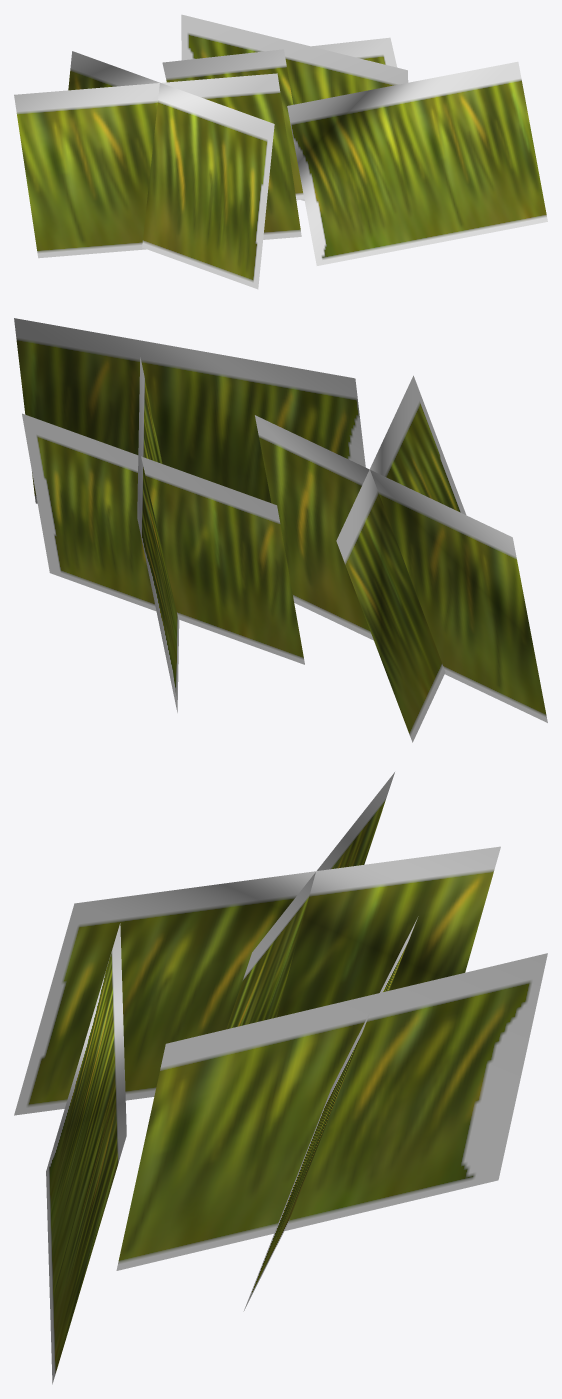
The model's file is xzl_cao1.fbx.
3 renders of one model, top to bottom at view 1: azimuth 30°, elevation 25°; view 2: azimuth 150°, elevation 25°; view 3: azimuth 270°, elevation 25°, orthographic. The views are drawn at different scales.
Visible parts, largest first — view 1: xzl_cao1; view 2: xzl_cao1; view 3: xzl_cao1.
Part boxes in pixels (x1,y1,x2,y2): xzl_cao1: (14, 14, 547, 289); xzl_cao1: (14, 318, 547, 742); xzl_cao1: (14, 772, 547, 1384).
Size of the model in its own units: 828 by 293 by 532.
